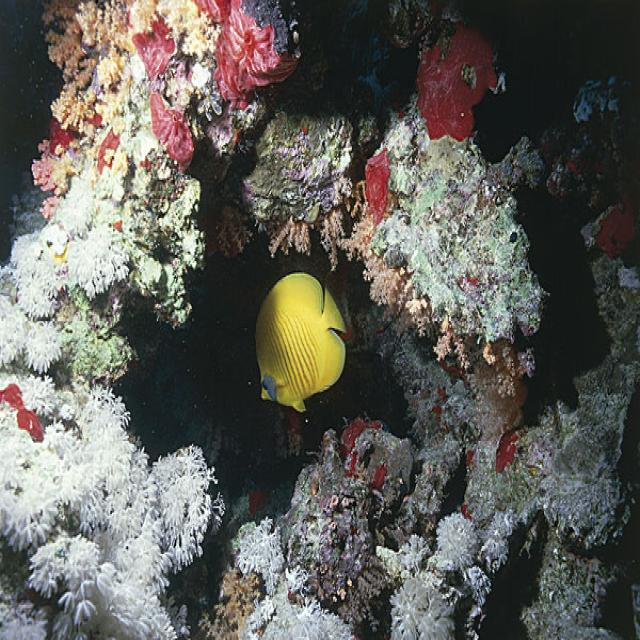ButterflyFish: (259, 273, 345, 415)
